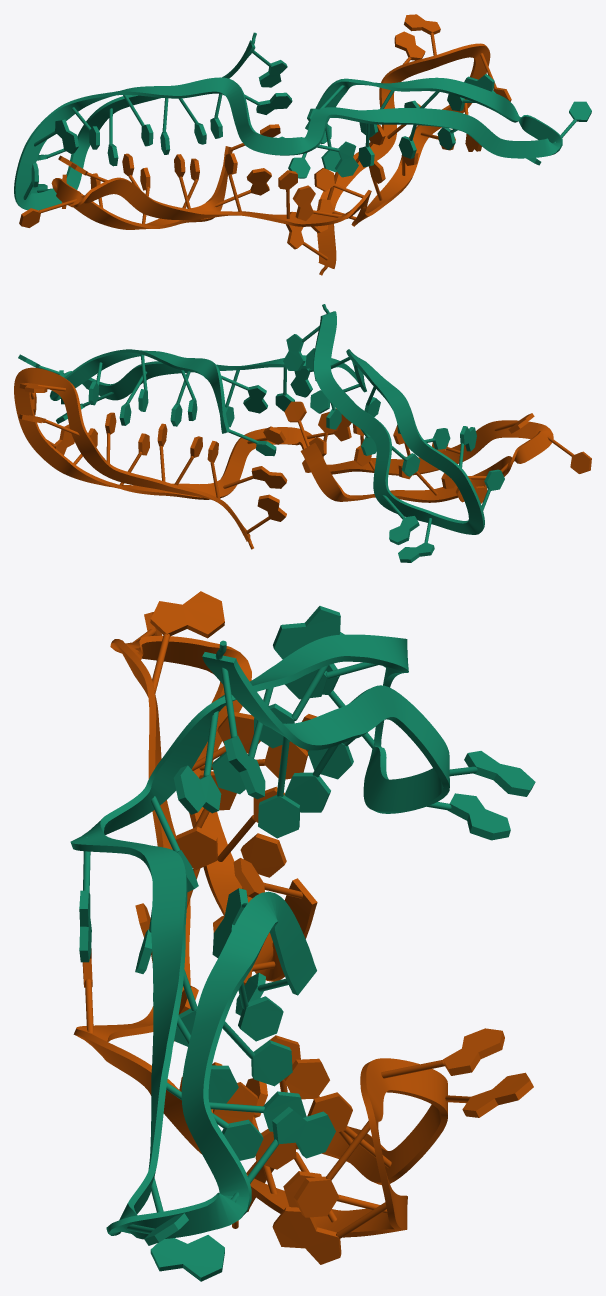
Rendered from I_DNA.glb.
3 views of the same model, one above another, from view 1: azimuth 30°, elevation 25°; view 2: azimuth 150°, elevation 25°; view 3: azimuth 270°, elevation 25° (orthographic). The views are drawn at different scales.
Size of the model in its own units: 77.09 by 33.73 by 27.38.
